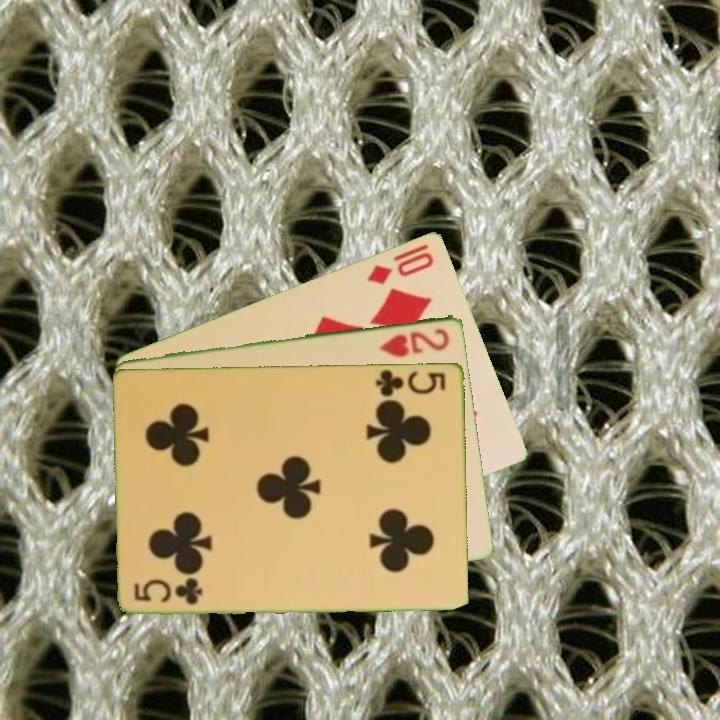10d: (364, 248, 437, 287)
2h: (375, 324, 453, 359)
5c: (373, 366, 449, 399), (131, 576, 206, 607)
